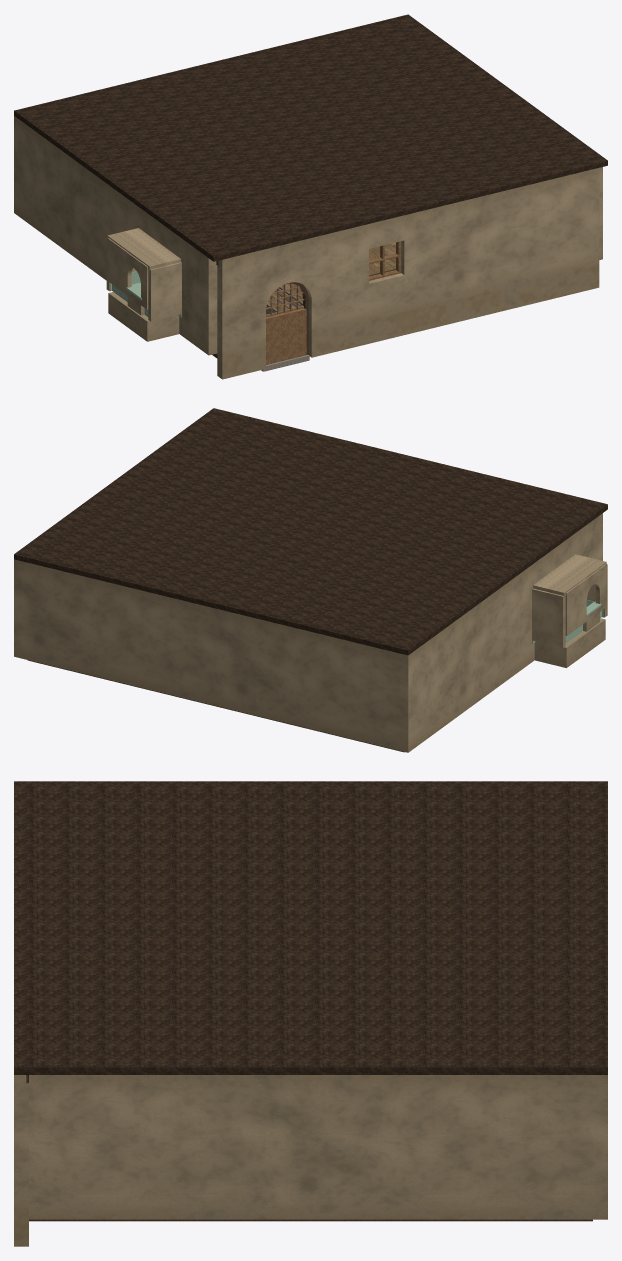
File: LivingRoom.glb
3 views of the same model, one above another, from view 1: azimuth 30°, elevation 25°; view 2: azimuth 150°, elevation 25°; view 3: azimuth 270°, elevation 25° (orthographic). The views are drawn at different scales.
Parts seen in each view (by area): view 1: Architecture, Fireplace and Kitchen; view 2: Architecture, Fireplace and Kitchen; view 3: Architecture.
Part boxes in pixels (x1,y1,x2,y2): Architecture: [14, 14, 607, 379]; Fireplace and Kitchen: [106, 228, 181, 341]; Architecture: [14, 408, 607, 752]; Fireplace and Kitchen: [532, 554, 607, 667]; Architecture: [14, 781, 607, 1246].
Bounding box in the file's own units: 17.69 × 5.13 × 14.32.
37 materials, 37 textured.
